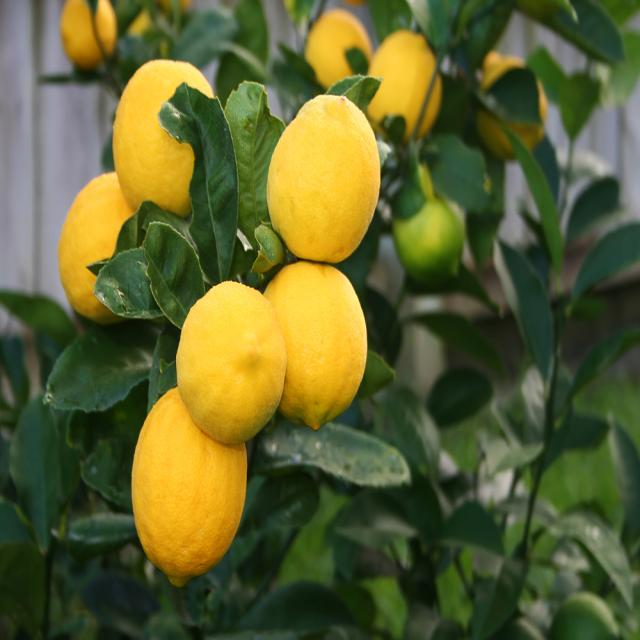lemon: (131, 386, 249, 582), (261, 89, 388, 260), (176, 279, 288, 444), (263, 261, 367, 428), (113, 57, 215, 218), (57, 172, 138, 324), (362, 30, 440, 145)
